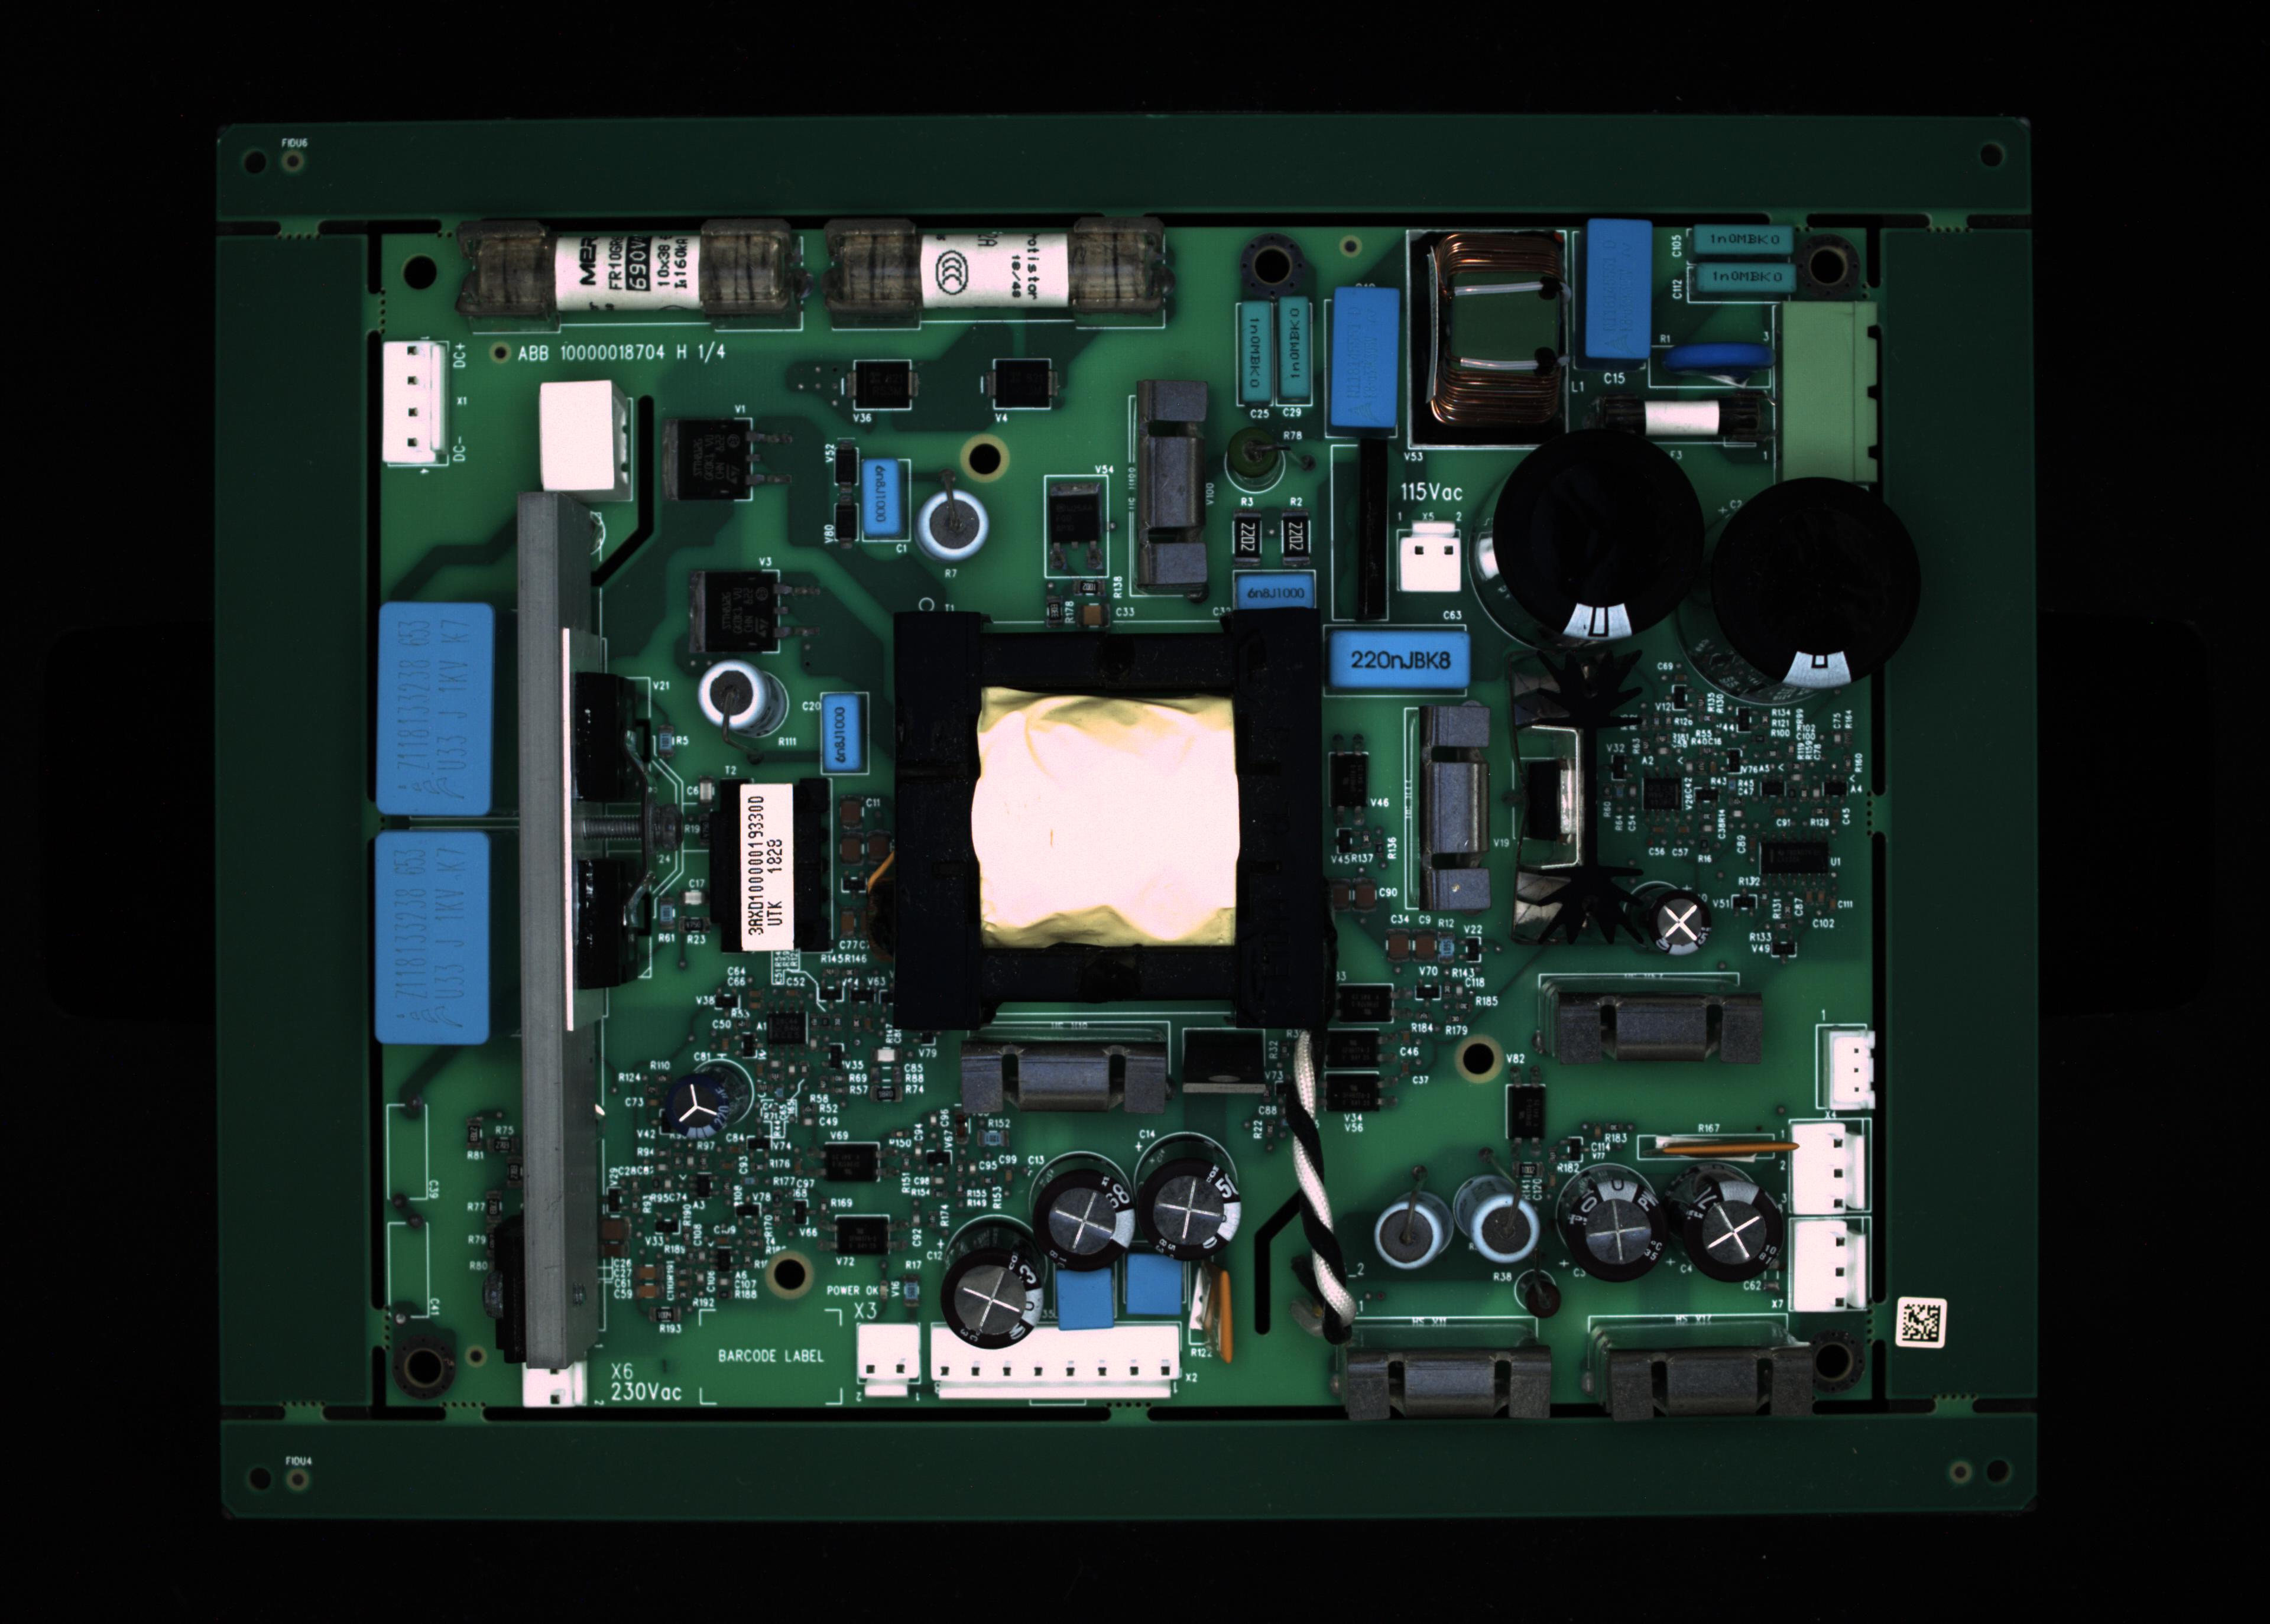10_p: (1648, 346, 1772, 394)
11_q: (1779, 297, 1885, 489)
12_r: (1591, 387, 1776, 455)
13_s: (380, 337, 443, 466)
14_t: (540, 378, 640, 489)
15_e: (860, 460, 899, 536)
16_k: (914, 487, 990, 561)
17_u: (1127, 385, 1206, 608)
18_v: (1234, 569, 1317, 615)
19_w: (1338, 627, 1468, 689)
1_a: (455, 221, 805, 325)
20_f: (1393, 517, 1470, 599)
21_g: (1475, 429, 1709, 670)
22_g: (1714, 482, 1929, 687)
23_h: (373, 603, 494, 819)
24_h: (376, 823, 494, 1039)
25_f: (515, 1360, 591, 1411)
26_f: (851, 1323, 927, 1403)
27_x: (925, 1323, 1178, 1399)
28_i: (1129, 1141, 1241, 1260)
29_i: (1027, 1151, 1132, 1274)
2_a: (819, 216, 1175, 330)
30_i: (941, 1216, 1055, 1339)
31_j: (1050, 1265, 1120, 1338)
32_j: (1129, 1253, 1185, 1323)
33_e: (821, 689, 858, 772)
34_k: (1373, 1181, 1465, 1281)
35_k: (1456, 1178, 1542, 1271)
36_i: (1556, 1164, 1672, 1295)
37_i: (1663, 1160, 1786, 1290)
38_l: (1335, 1345, 1560, 1424)
39_l: (1609, 1345, 1827, 1422)
3_b: (1234, 295, 1270, 410)
40_l: (1539, 990, 1767, 1069)
41_y: (1407, 678, 1505, 919)
42_z: (1818, 1026, 1878, 1113)
43_m: (1792, 1123, 1866, 1216)
44_m: (1788, 1225, 1871, 1313)
45_i: (679, 1065, 756, 1142)
46_n: (1338, 982, 1396, 1028)
47_n: (819, 1139, 879, 1186)
48_n: (833, 1216, 891, 1257)
49_aa: (761, 1011, 814, 1056)
4_b: (1280, 299, 1317, 410)
50_n: (1331, 1030, 1384, 1069)
51_n: (1322, 1070, 1382, 1114)
52_ab: (1329, 747, 1368, 808)
53_ac: (1656, 1130, 1790, 1165)
54_ad: (1194, 1253, 1222, 1364)
55_l: (960, 1042, 1173, 1118)
56_ae: (1176, 1025, 1264, 1081)
57_af: (1509, 647, 1635, 951)
58_i: (1642, 889, 1716, 956)
59_o: (981, 359, 1067, 417)
5_c: (1336, 281, 1396, 427)
60_o: (853, 357, 911, 415)
6_ag: (1405, 232, 1572, 452)
7_c: (1584, 220, 1648, 357)
8_d: (1686, 227, 1792, 260)
9_d: (1688, 262, 1793, 292)
